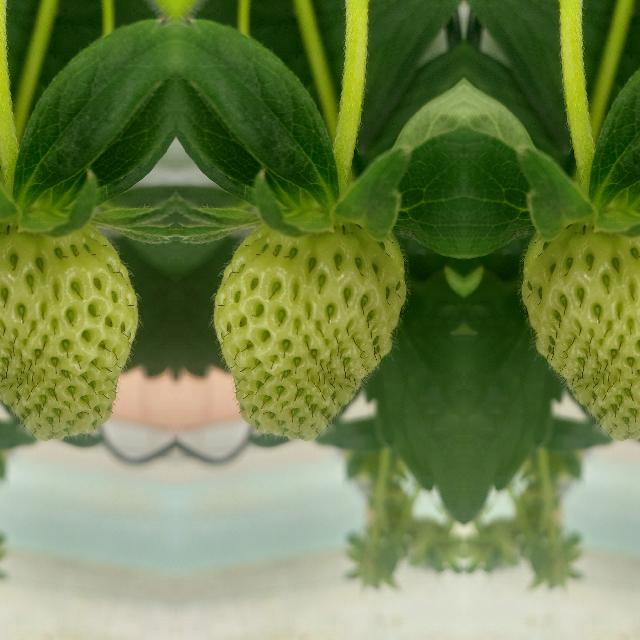Health_25: (212, 225, 406, 441), (0, 225, 137, 441), (520, 225, 640, 441)
